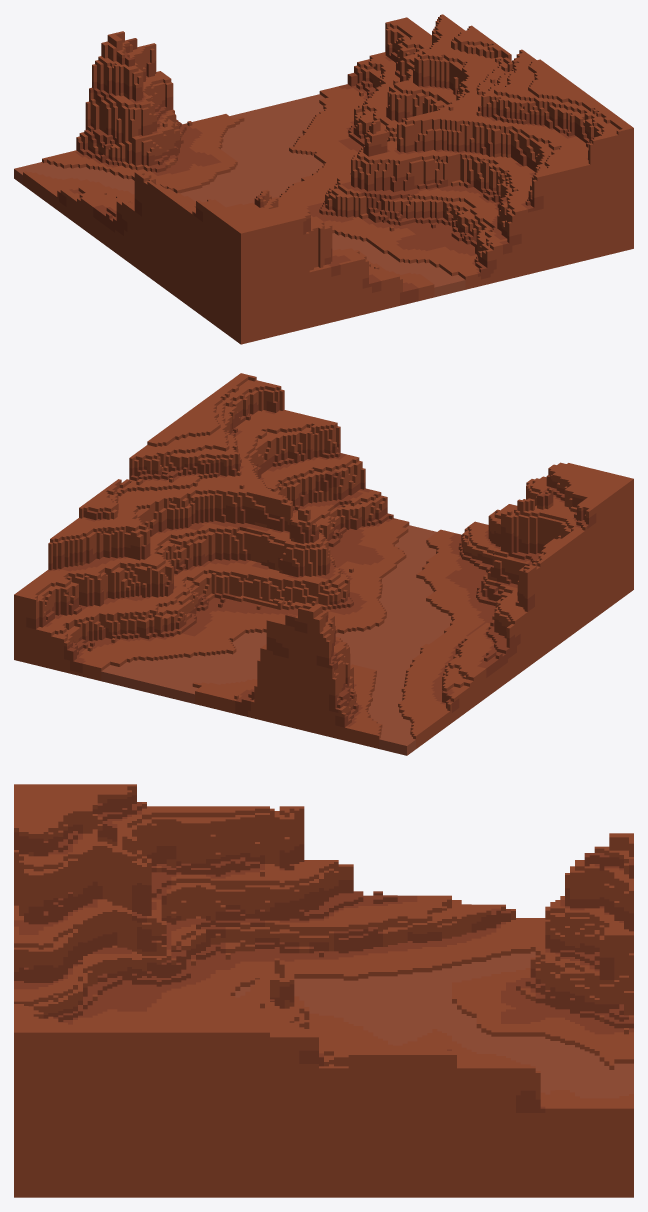
File: map.obj
3 renders of one model, top to bottom at view 1: azimuth 30°, elevation 25°; view 2: azimuth 150°, elevation 25°; view 3: azimuth 270°, elevation 25°, orthographic. The views are drawn at different scales.
Parts seen in each view (by area): view 1: map; view 2: map; view 3: map.
Part boxes in pixels (x1=…): map: x1=14, y1=14, x2=633, y2=344; map: x1=14, y1=373, x2=633, y2=755; map: x1=14, y1=784, x2=633, y2=1197.
Size of the model in its own units: 126 by 37 by 126.
Materials: 1 (1 with a texture image).
